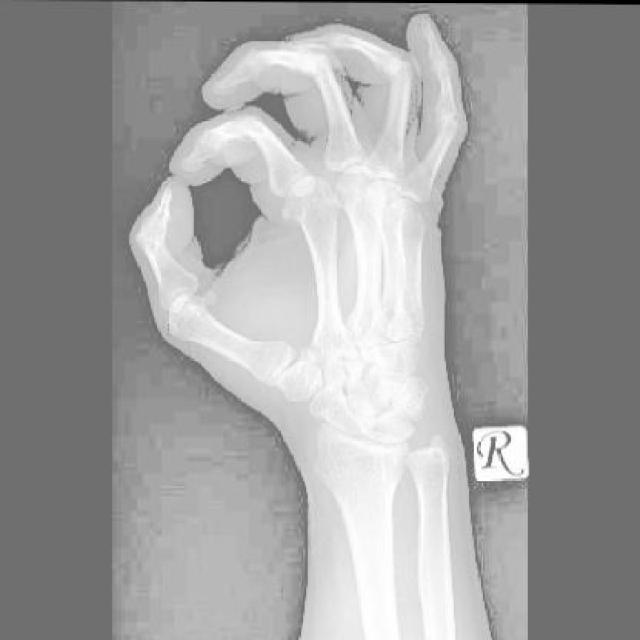Fracture: (386, 380, 423, 413)
